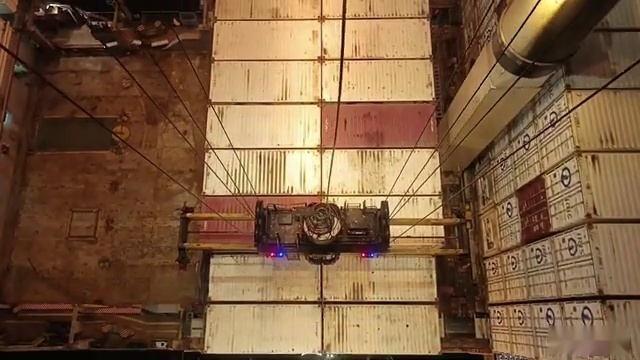container: (200, 196, 445, 254), (203, 303, 442, 357), (206, 254, 438, 304), (204, 104, 440, 150), (202, 148, 442, 193), (207, 60, 436, 101), (209, 18, 433, 58)
guide_mark: (76, 341, 551, 360), (106, 342, 533, 359)
spreader: (172, 196, 472, 270)
target_slot: (194, 191, 451, 263)
